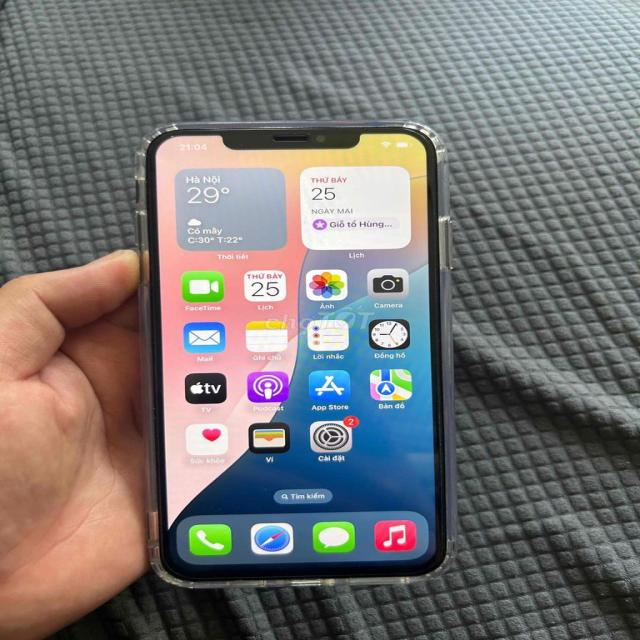gen_x_xs: (137, 120, 455, 587)
